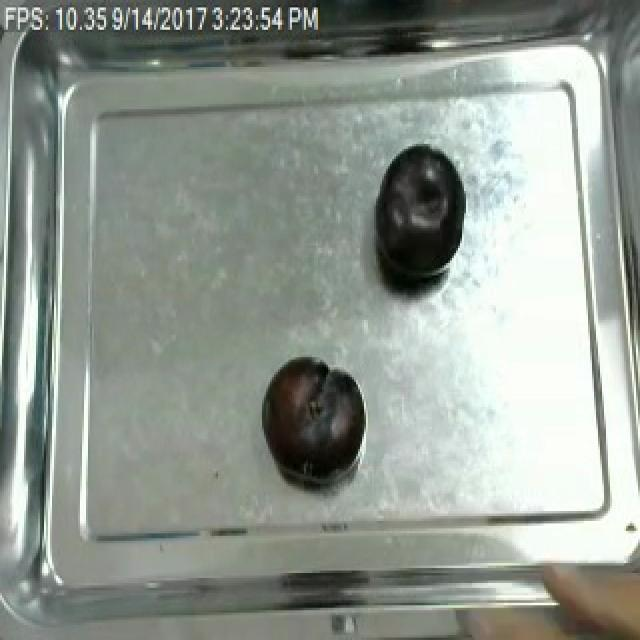Fruit: (370, 142, 468, 290), (258, 352, 362, 479), (526, 543, 640, 640)
